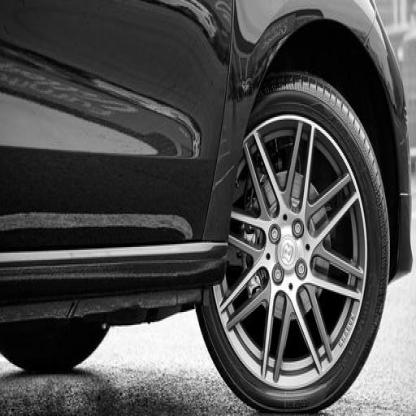Tire: (194, 70, 390, 414)
